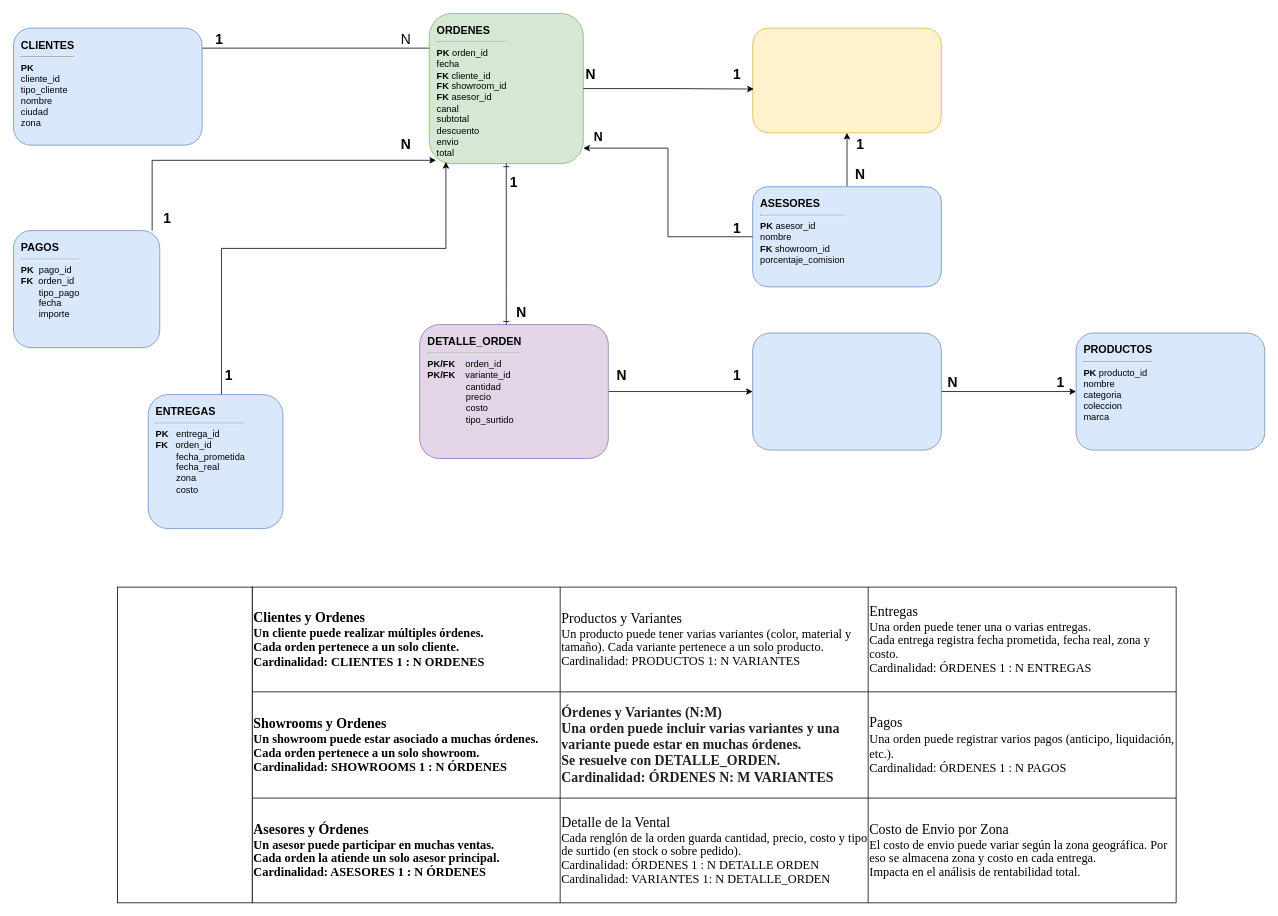
This 1278x916 diagram has some shape labels left out. The centre of each missing label's shape, as x and y in pixels:
REGLAS DE NEGOCIO: point 184,744
SHOWROOMS* PK showroom_id nombre ciudad zona: point 846,80
VARIANTES PK variante_id FK producto_id color material tamaño: point 846,391
